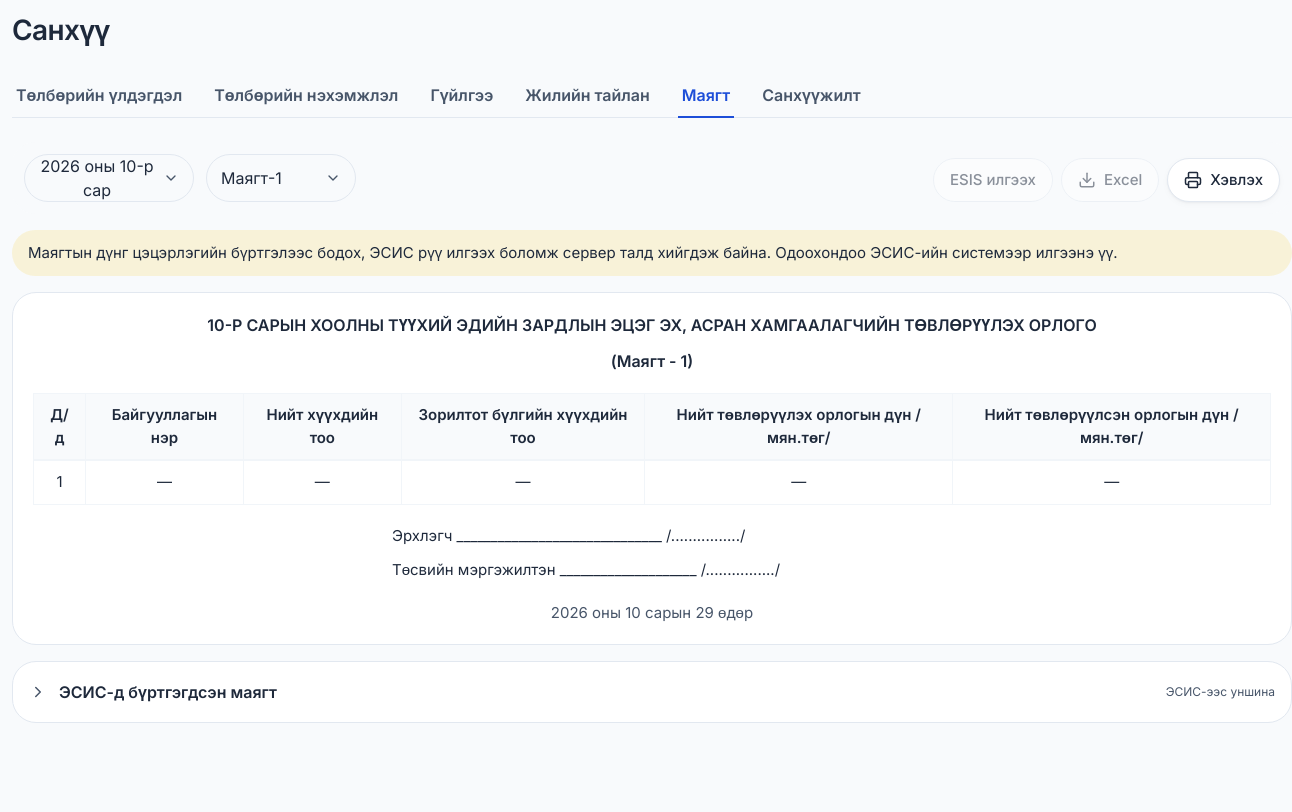
Test: Санхүү — tabs › holds «ESIS илгээх» while the route is missing, and asks for a group on Маягт-2
expect the element named "Маягт - 1" is shown: met, box 12,292 -> 1291,645
expect the text "сервер талд хийгдэж байна" is shown: met, box 28,243 -> 1118,262
Click the dropdown labelled "Маягт": (281, 178) 206,154 -> 356,202
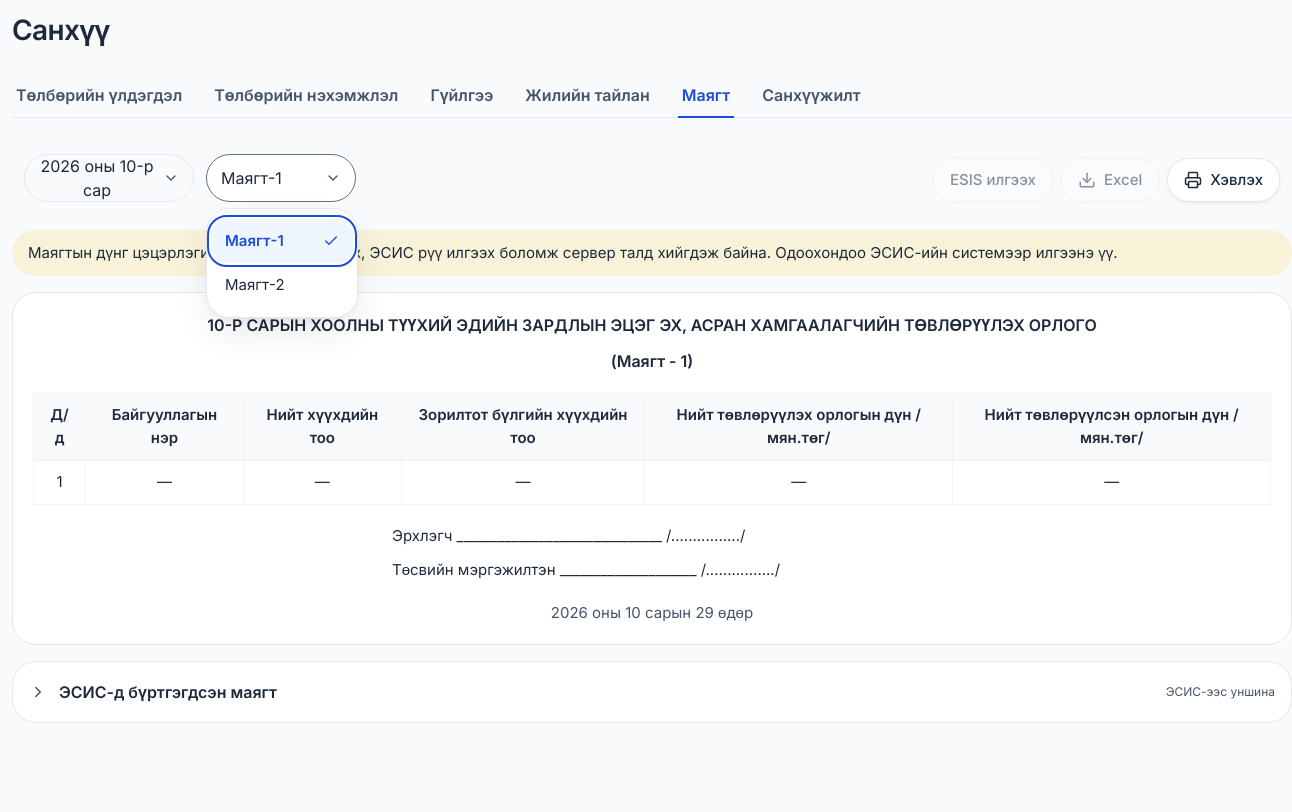
Click the option "Маягт-2": (255, 284) 225,275 -> 285,294
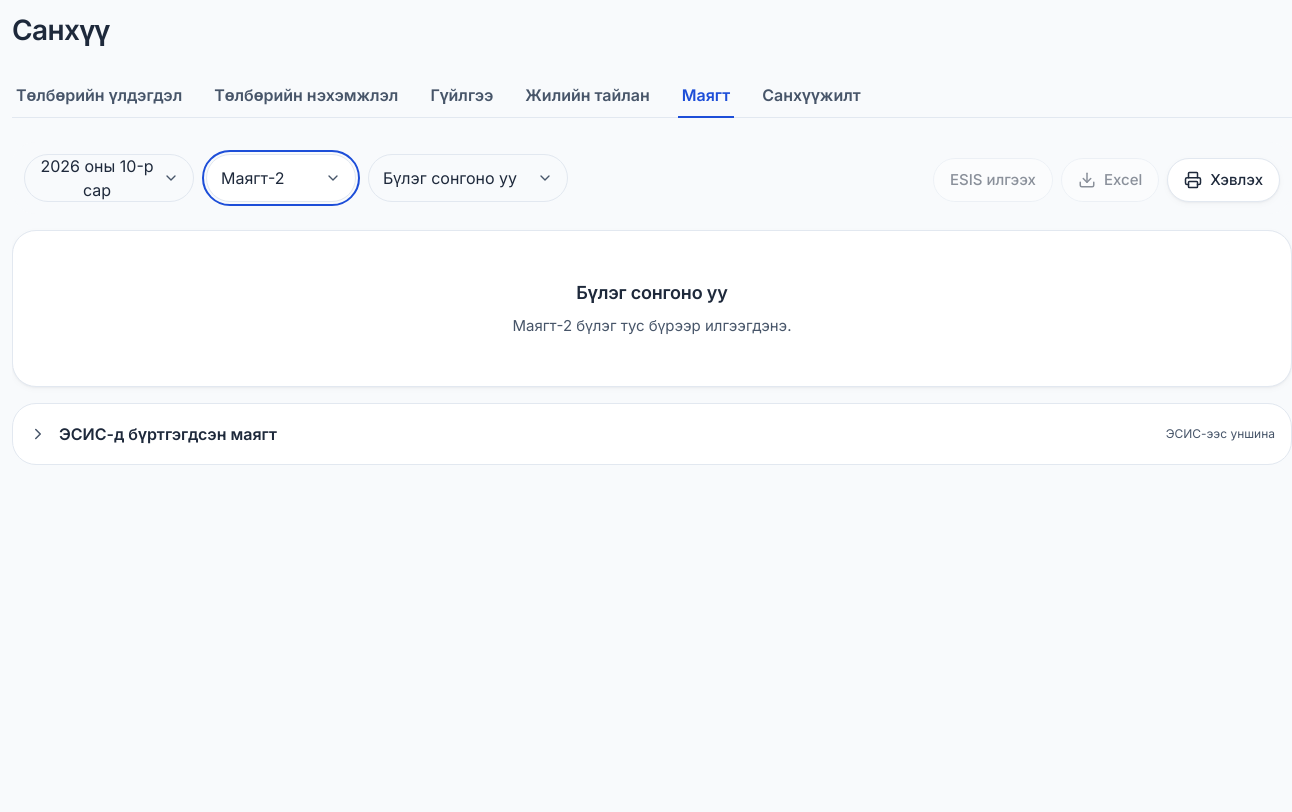
expect the text "Маягт-2 бүлэг тус бүрээр илгээгдэнэ." is shown: met, box 512,314 -> 792,338
